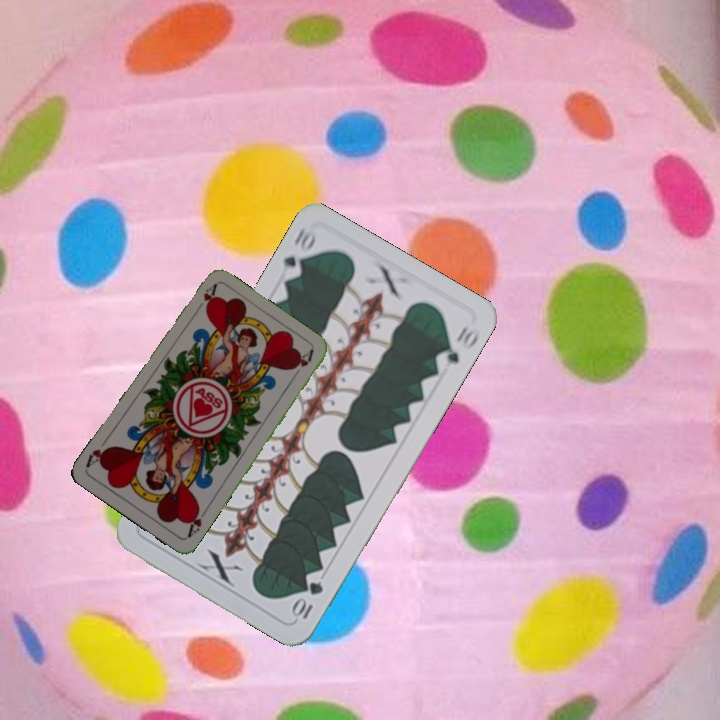G10: (276, 222, 319, 283), (288, 577, 326, 622)
HA: (191, 280, 220, 317), (183, 503, 210, 541)
